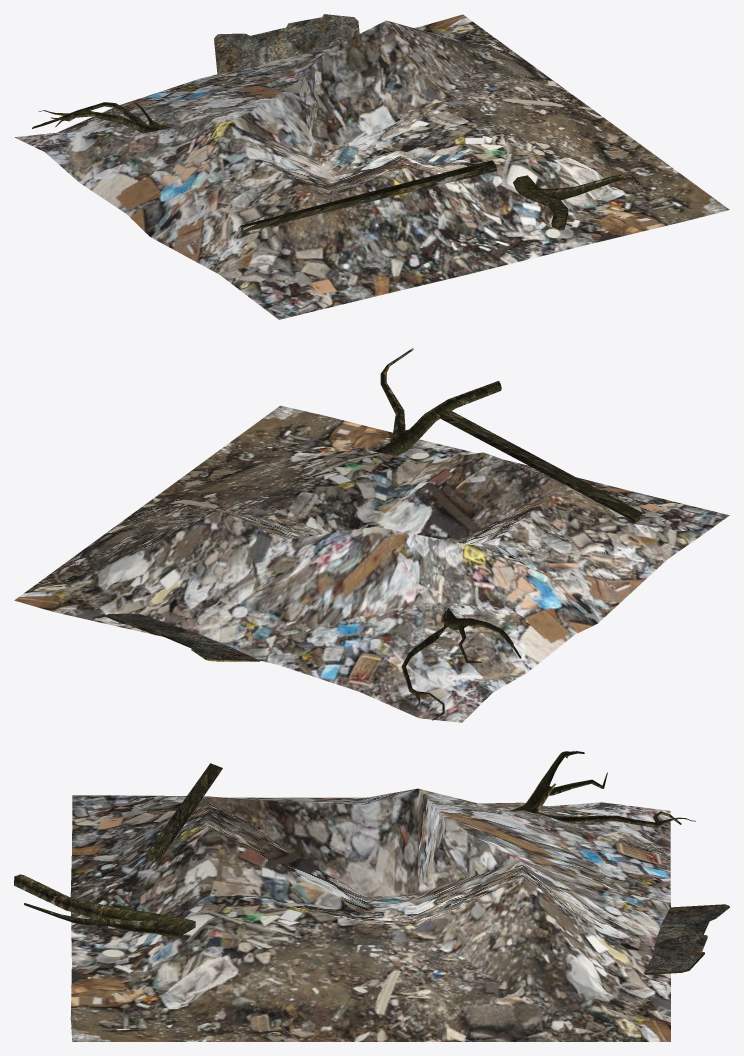
File: Trash1_taken.FBX
The picture shows the model from 3 angles, top to bottom: view 1: azimuth 30°, elevation 25°; view 2: azimuth 150°, elevation 25°; view 3: azimuth 270°, elevation 25°; orthographic projection. The views are drawn at different scales.
Visible parts, largest first — view 1: WoodPile, Board005; view 2: WoodPile, Board005; view 3: WoodPile, Board005.
Part boxes in pixels (x1,y1,x2,y2): WoodPile: (15,14,729,319); Board005: (32,14,640,231); WoodPile: (14,405,729,722); Board005: (106,348,643,720); WoodPile: (70,788,670,1041); Board005: (14,751,729,974).
Size of the model in its own units: 9.41 by 1.84 by 11.07.
1 material, 1 textured.
